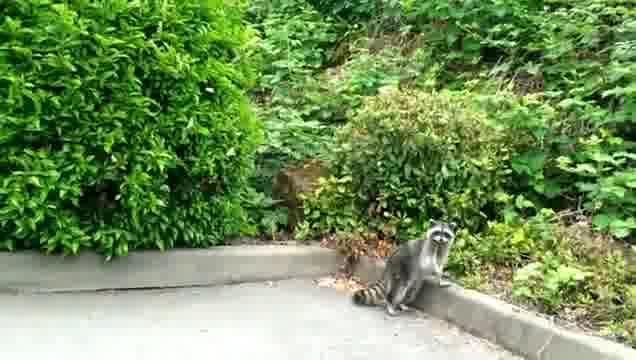raccoon: (352, 217, 458, 319)
